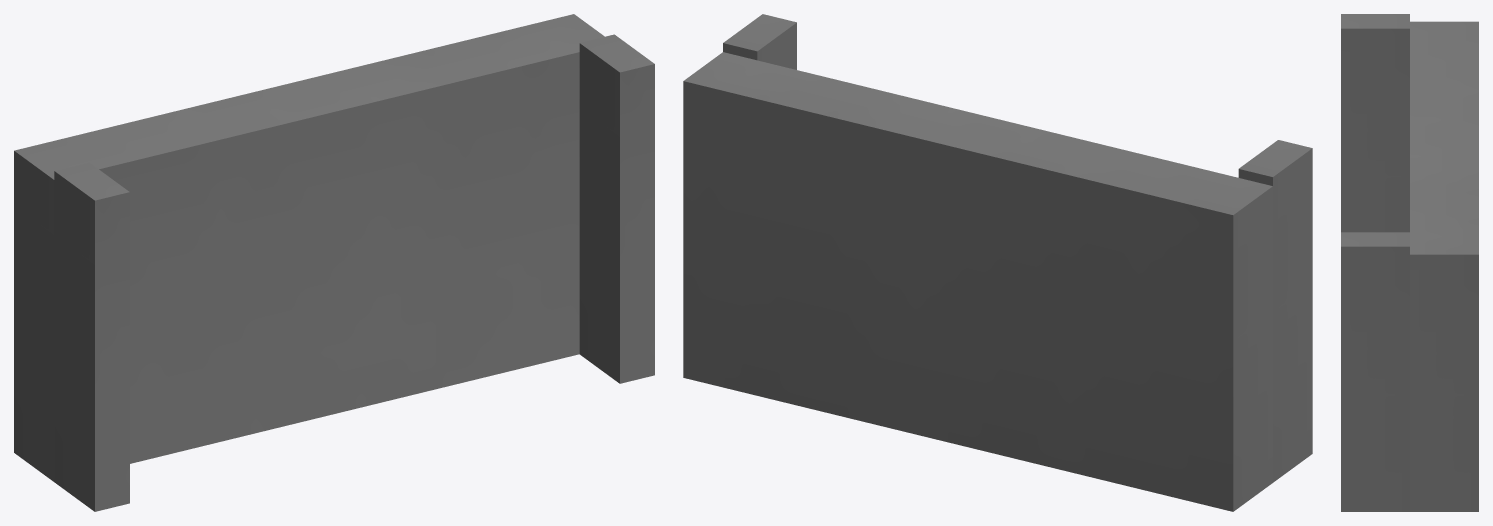
Rendered from dc_metro_arch_c3.obj.
3 renders of one model, left to right at view 1: azimuth 30°, elevation 25°; view 2: azimuth 150°, elevation 25°; view 3: azimuth 270°, elevation 25°, orthographic. The views are drawn at different scales.
Visible parts, largest first — view 1: part3; view 2: part3; view 3: part3.
Boxes of the visible parts, <box> form: part3: <box>14,14,654,511</box>; part3: <box>683,14,1312,511</box>; part3: <box>1341,14,1478,511</box>.
Size of the model in its own units: 2 by 1.06 by 0.5.
1 material, 1 textured.
